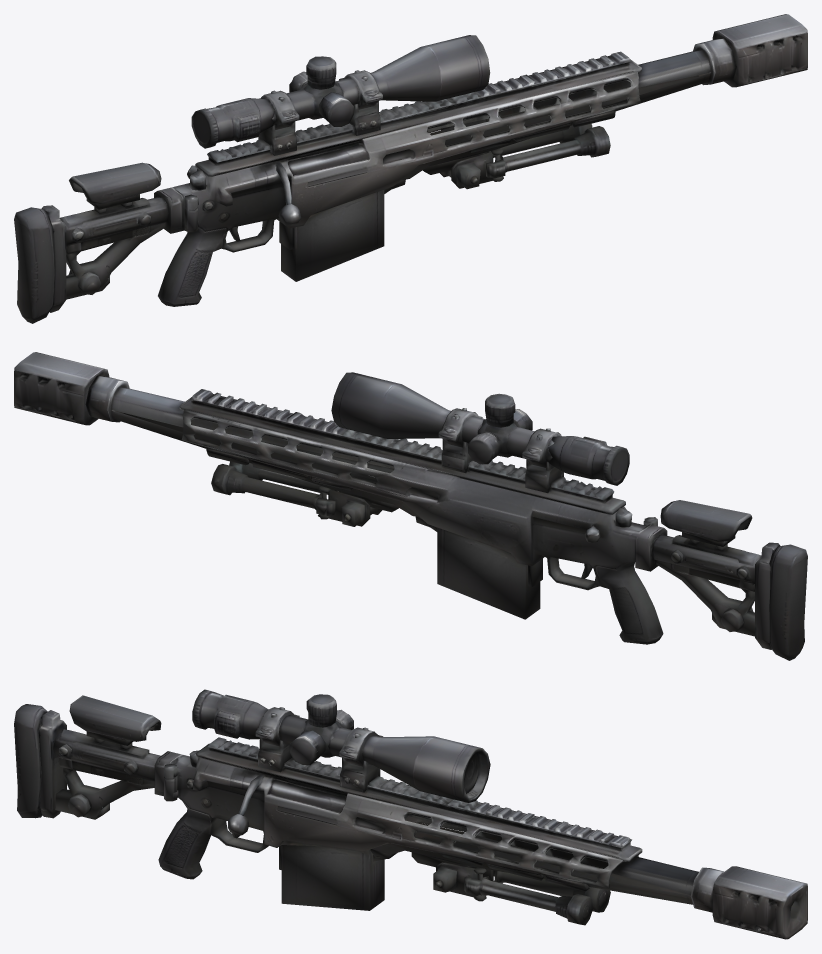
File: amr21_nail.glb
3 views of the same model, one above another, from view 1: azimuth 30°, elevation 25°; view 2: azimuth 150°, elevation 25°; view 3: azimuth 330°, elevation 25° (orthographic).
Visible parts, largest first — view 1: amr21_nail; view 2: amr21_nail; view 3: amr21_nail.
Boxes of the visible parts, left/top/right/bottom form: amr21_nail: left=14, top=14, right=807, bottom=323; amr21_nail: left=14, top=352, right=807, bottom=660; amr21_nail: left=14, top=689, right=807, bottom=939.
Bounding box in the file's own units: 1.2 × 0.3076 × 0.1386.
Materials: 1 (1 with a texture image).
